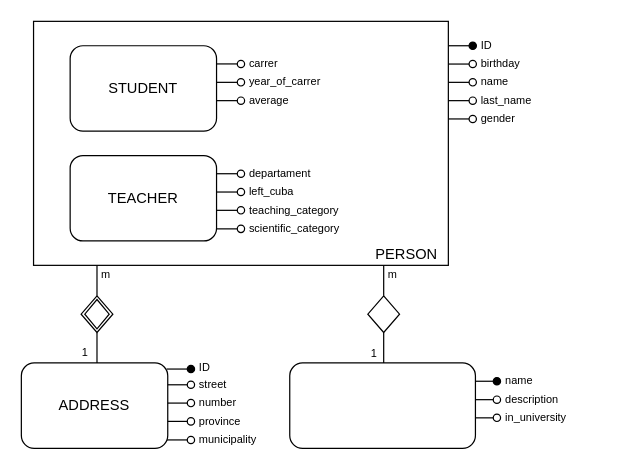
This 617x473 diagram has some shape labels left out. The shapes that lost their labels are listed below. From the top down, each one's centre as x and y in pixels, then its label:
At point (383, 313): "PP".
At point (382, 405): "PLACE_TO_LOCATION".
